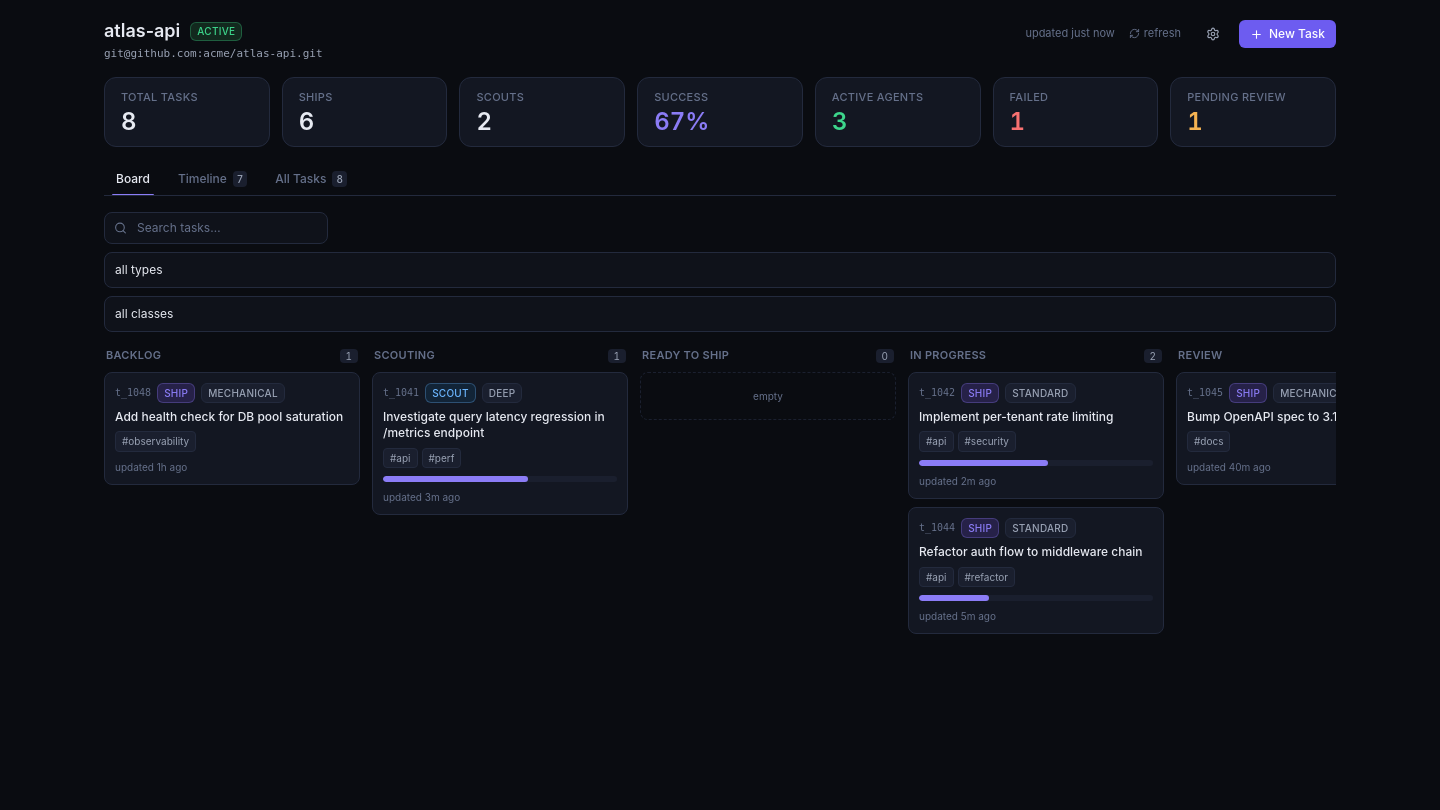
Project dashboard board › searches tasks by title
Expected: the text "Implement per-tenant rate limiting" is shown, [919,409,1114,424]
Type "rate limiting" into the field with placeholder "Search tasks…".
click(216, 228); type("rate limiting")  # box [104,212,328,244]
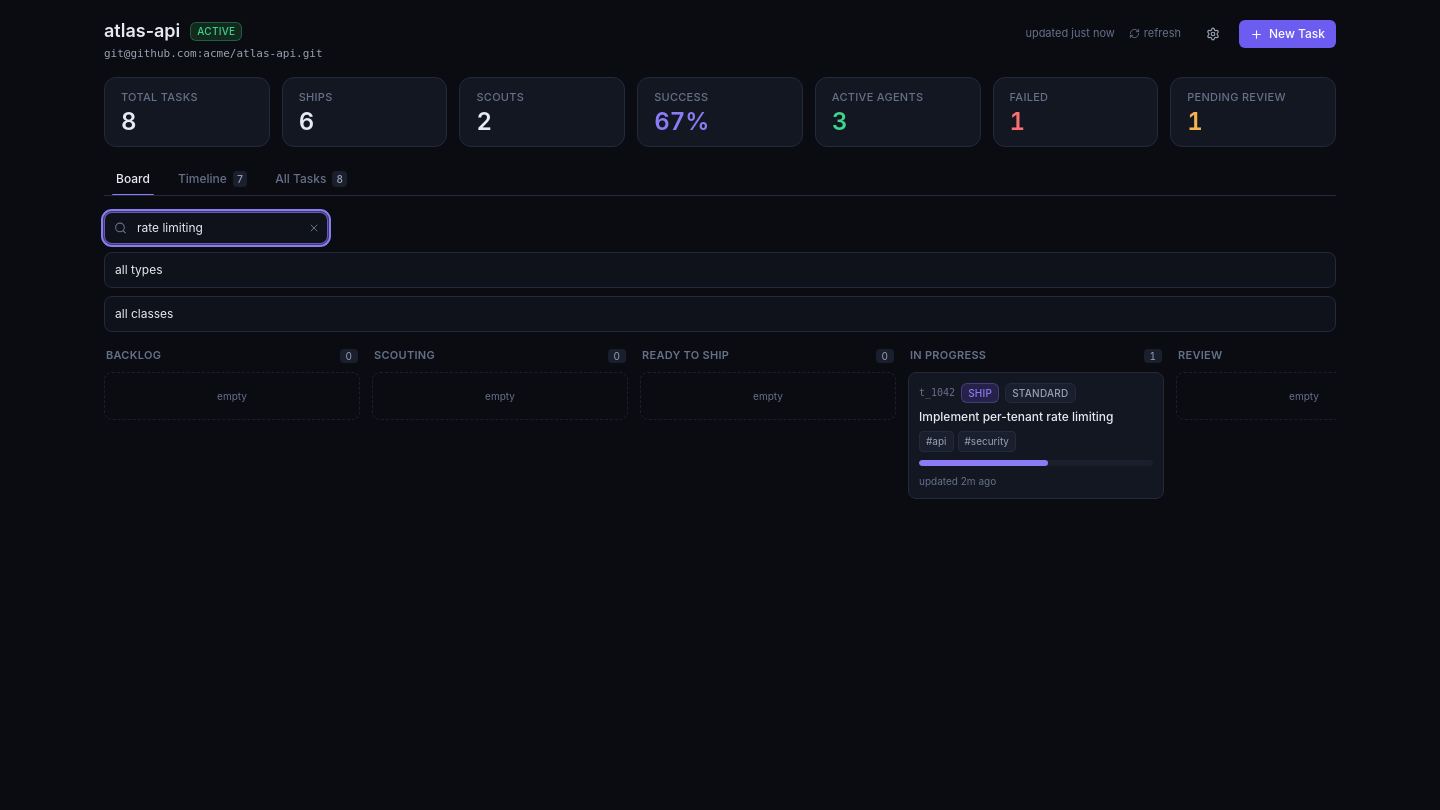
Expected: the text "Implement per-tenant rate limiting" is shown, [919,409,1114,424]
Expected: the button "auth flow" is gone
